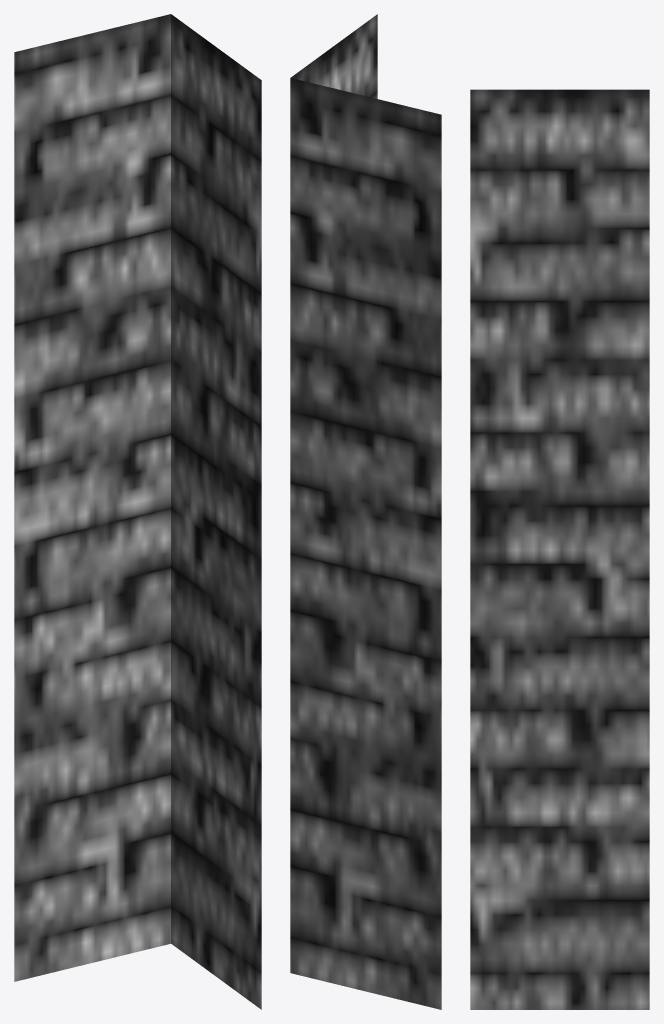
File: W_A1_Eckverschluß [Steine]_923.glb
The picture shows the model from 3 angles, left to right: view 1: azimuth 30°, elevation 25°; view 2: azimuth 150°, elevation 25°; view 3: azimuth 270°, elevation 25°; orthographic projection. The views are drawn at different scales.
Visible parts, largest first — view 1: pPlaneShape7; view 2: pPlaneShape7; view 3: pPlaneShape7.
Part boxes in pixels (<box>): pPlaneShape7: <box>14,14,261,1009</box>; pPlaneShape7: <box>290,14,441,1009</box>; pPlaneShape7: <box>470,89,649,1009</box>.
Size of the model in its own units: 0.0615 by 0.3486 by 0.0615.
1 material, 1 textured.
